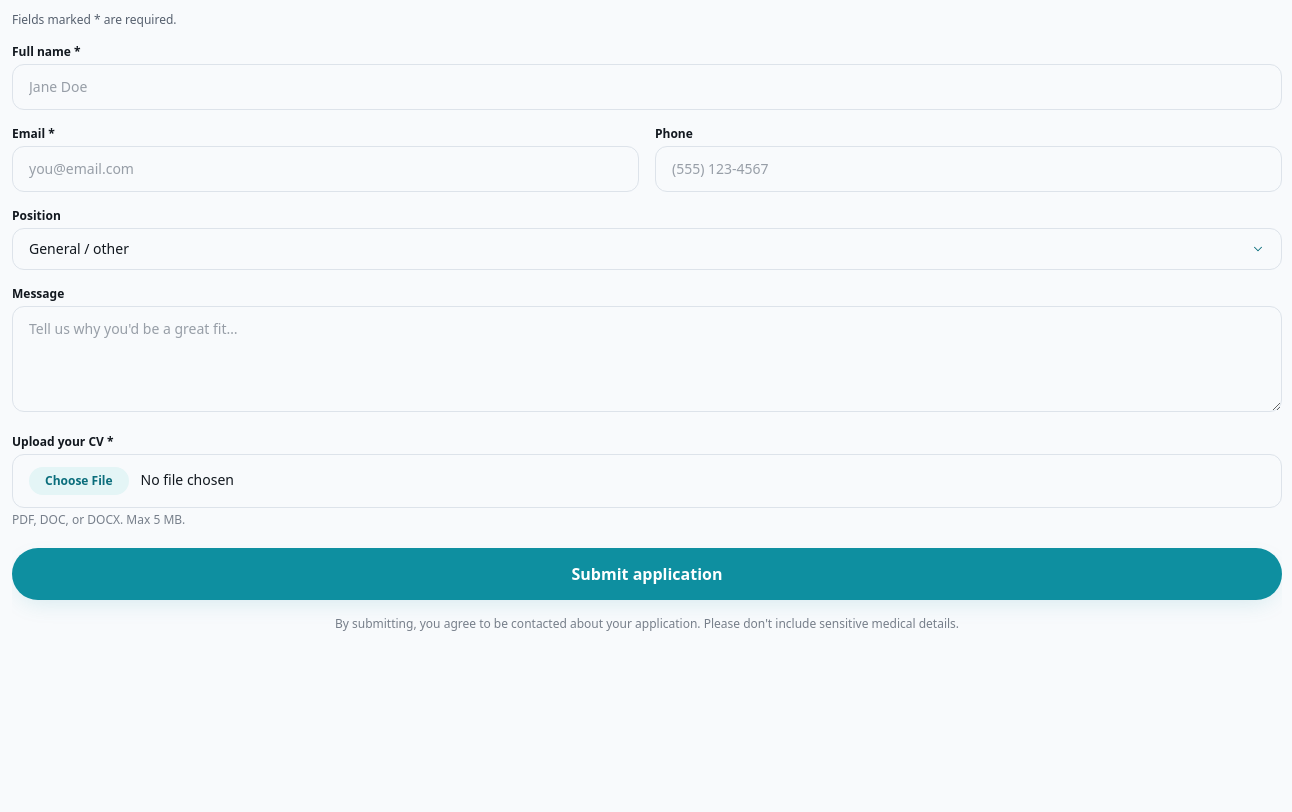
Test: JobApplicationForm › blocks submit and shows an error when the CV is missing
Type "Jane" into the field labelled "Full name *".
click(647, 87); type("Jane")  # box [12,64,1282,110]
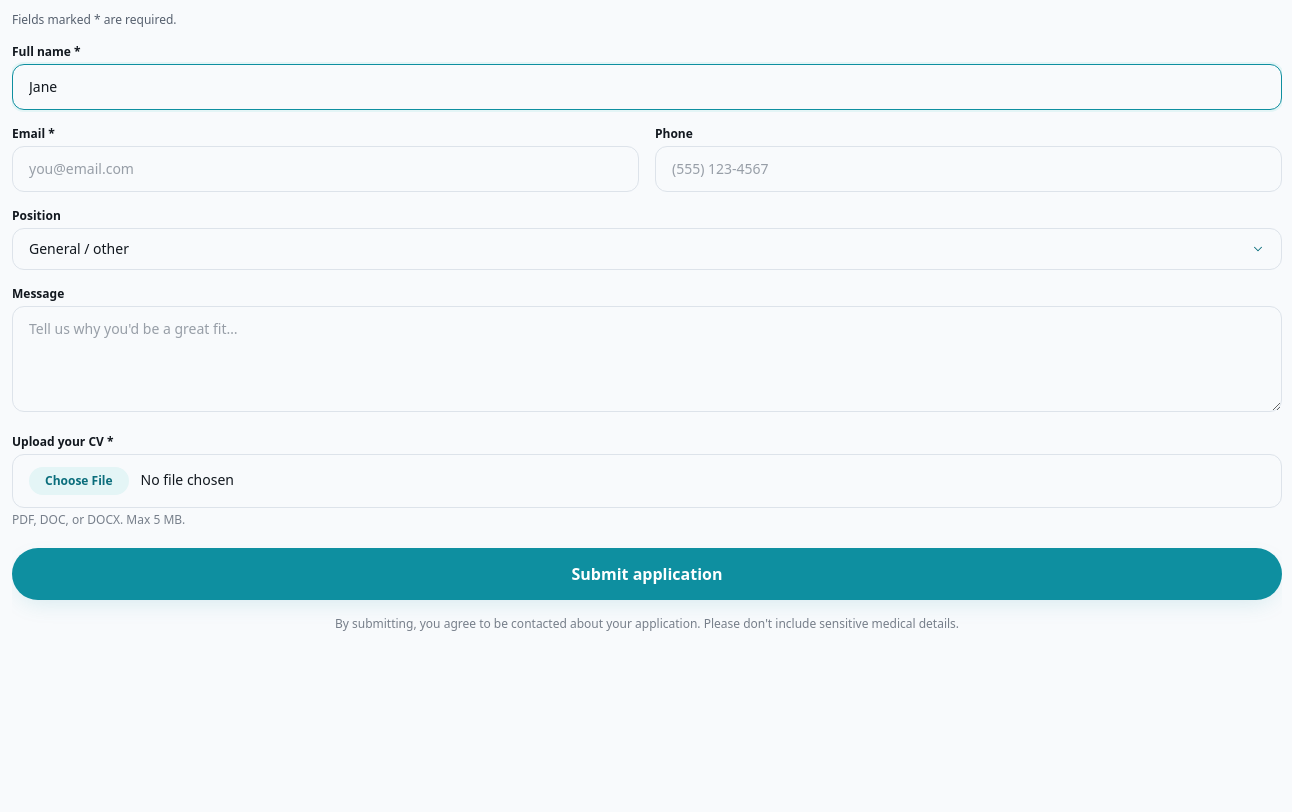
Type "jane@example.com" into the field labelled "Email *".
click(326, 169); type("jane@example.com")  # box [12,146,639,192]
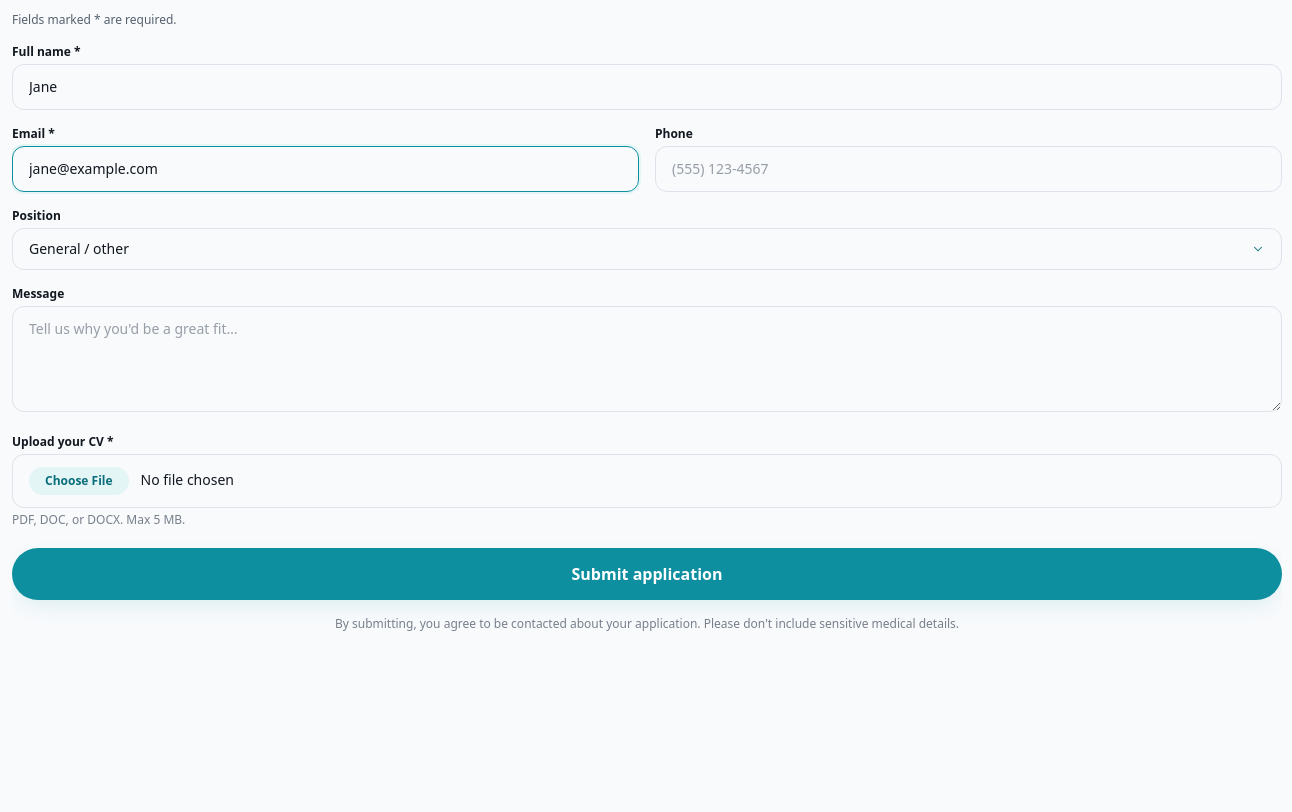
Click the button "Submit application".
click(647, 574)  # box [12,548,1282,600]
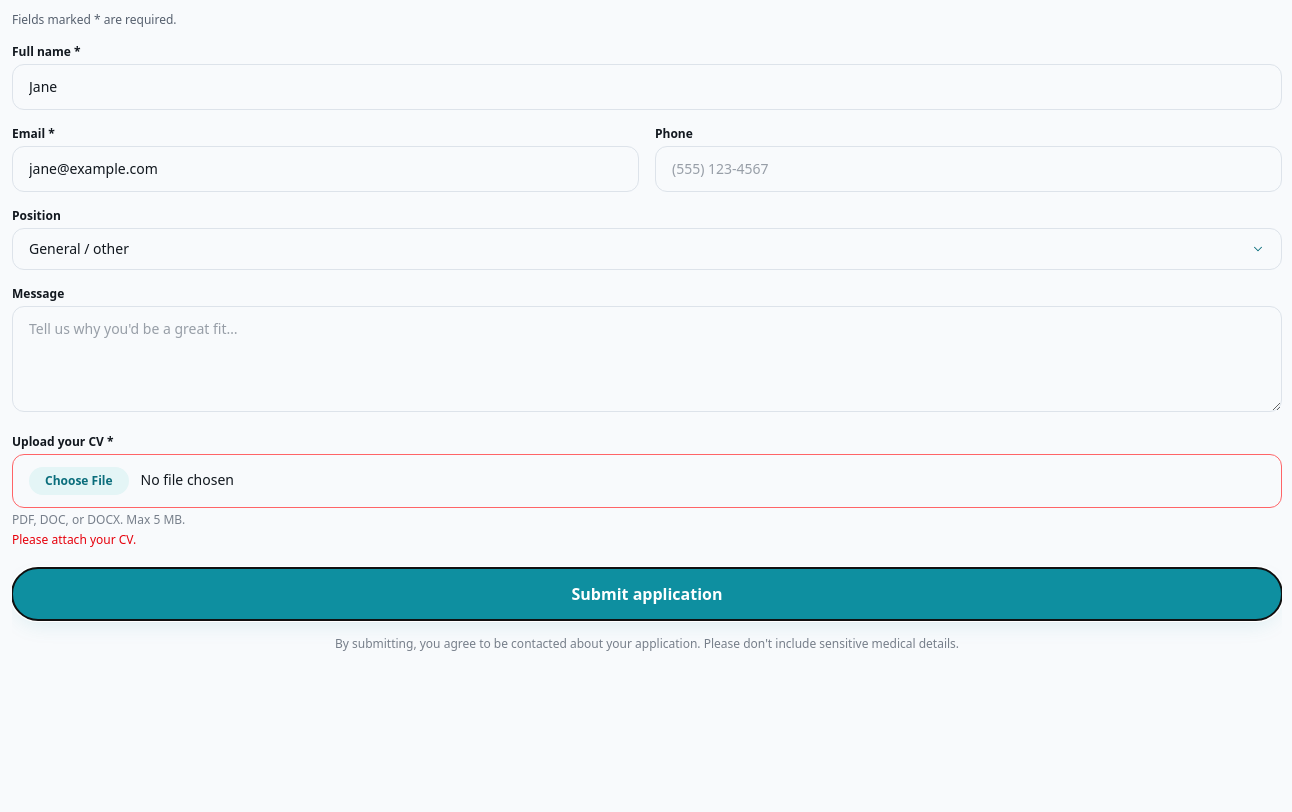
Expected: the text "Please attach your CV." is shown, [12,531,136,548]
